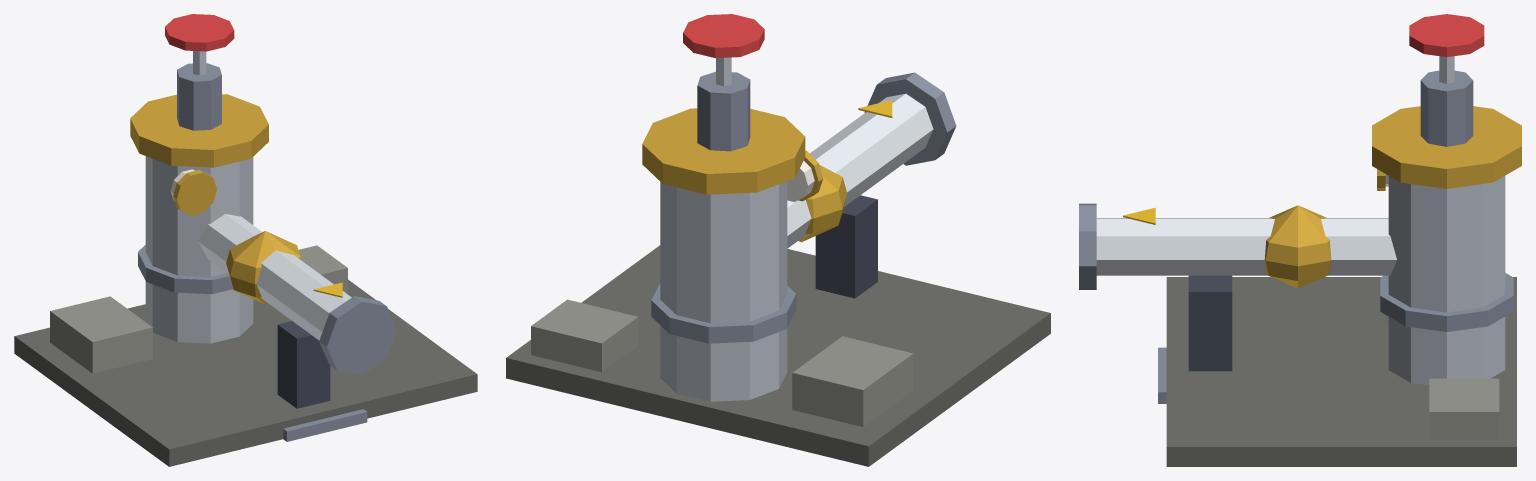
File: underground-water-inlet.glb
3 views of the same model, side by side, from view 1: azimuth 30°, elevation 25°; view 2: azimuth 150°, elevation 25°; view 3: azimuth 270°, elevation 25° (orthographic). The views are drawn at different scales.
Parts seen in each view (by area): view 1: underground-water-inlet; view 2: underground-water-inlet; view 3: underground-water-inlet.
Part boxes in pixels (<box>): underground-water-inlet: <box>14,14,477,466</box>; underground-water-inlet: <box>506,14,1050,466</box>; underground-water-inlet: <box>1079,14,1521,466</box>.
Size of the model in its own units: 0.92 by 0.885 by 1.01.
Materials: 1 (1 with a texture image).
